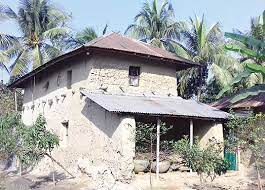Mud House: (6, 36, 230, 179)
